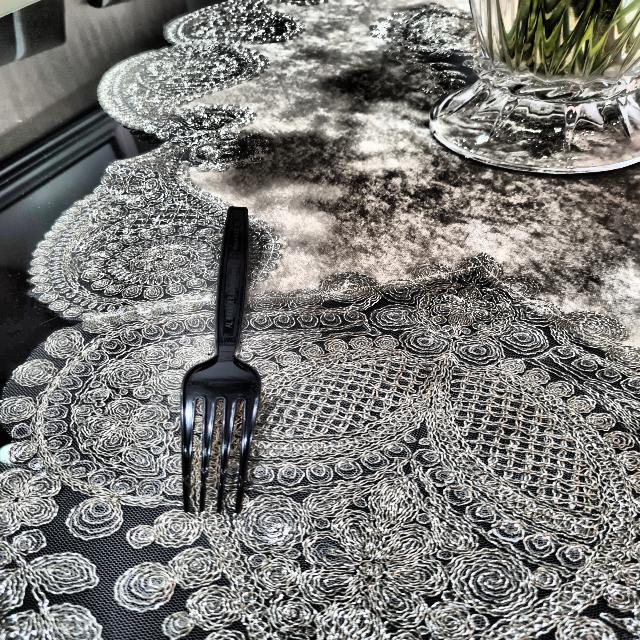plastic utensil: (170, 200, 268, 516)
